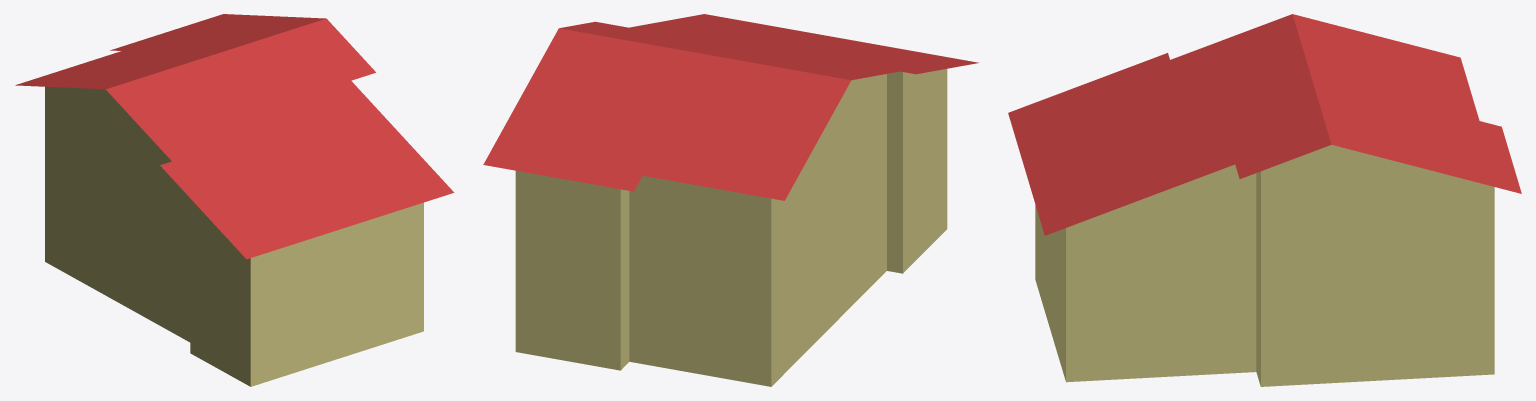
3 renders of one model, left to right at view 1: azimuth 30°, elevation 25°; view 2: azimuth 150°, elevation 25°; view 3: azimuth 270°, elevation 25°, orthographic. The views are drawn at different scales.
Size of the model in its own units: 14.01 by 21.03 by 11.24.
